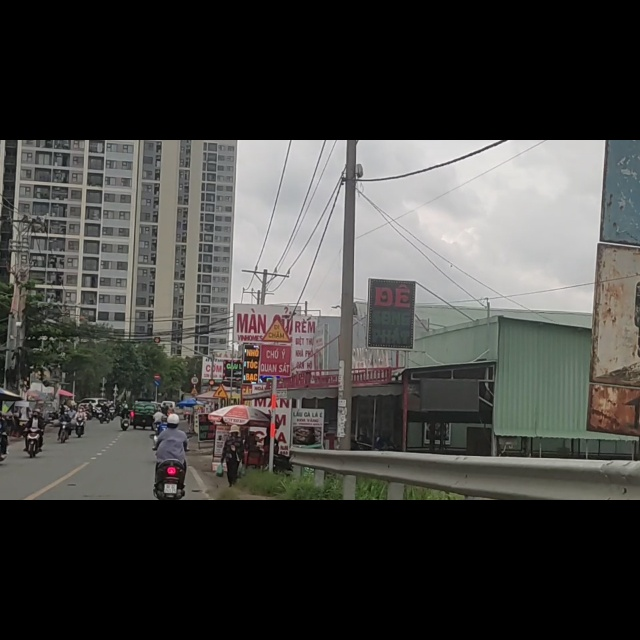bien_cam: (264, 319, 289, 360)
